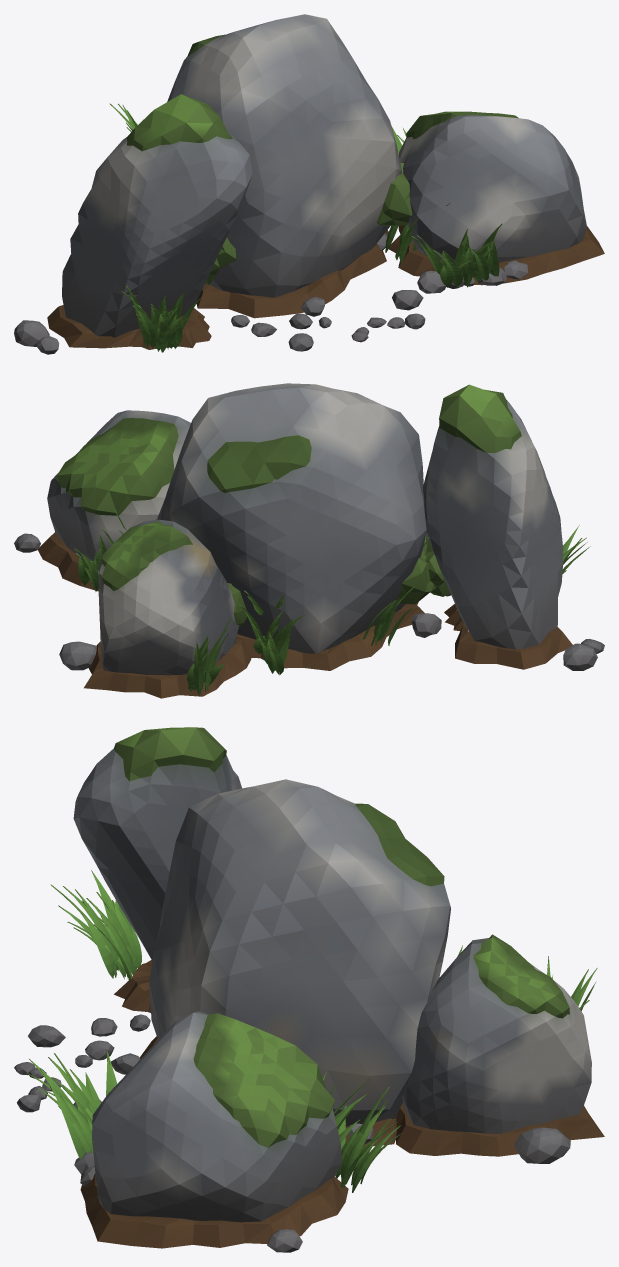
File: granite-rock-cluster.glb
The picture shows the model from 3 angles, top to bottom: view 1: azimuth 30°, elevation 25°; view 2: azimuth 150°, elevation 25°; view 3: azimuth 270°, elevation 25°; orthographic projection. The views are drawn at different scales.
Visible parts, largest first — view 1: granite_rock_cluster; view 2: granite_rock_cluster; view 3: granite_rock_cluster.
Boxes of the visible parts, x1,y1,x2,y2 form: granite_rock_cluster: [14, 14, 604, 354]; granite_rock_cluster: [14, 383, 604, 698]; granite_rock_cluster: [14, 727, 604, 1252].
Size of the model in its own units: 2.33 by 0.9473 by 1.71.
